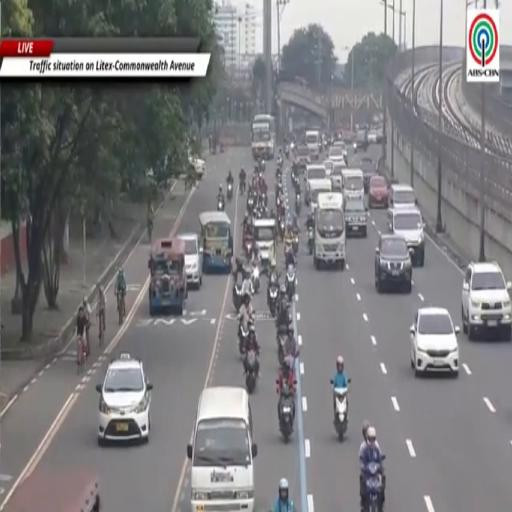bus: (314, 192, 345, 269), (251, 115, 275, 159)
car: (96, 354, 152, 444), (462, 262, 511, 340), (410, 308, 459, 376), (375, 234, 412, 293), (388, 208, 425, 266), (179, 233, 202, 289), (345, 198, 367, 237), (389, 184, 417, 209), (368, 175, 388, 209), (360, 157, 376, 193), (331, 163, 346, 191), (189, 156, 205, 180), (333, 140, 347, 163), (296, 146, 311, 167), (355, 129, 368, 150), (329, 147, 345, 162), (323, 159, 333, 177), (368, 131, 377, 143)
jeepney: (3, 469, 101, 511), (149, 237, 187, 315), (200, 212, 233, 273), (254, 219, 276, 266)
motorcycle: (362, 455, 385, 511), (279, 389, 294, 442), (333, 388, 348, 440), (246, 350, 257, 393), (277, 329, 287, 366), (286, 265, 296, 301), (238, 319, 248, 355), (268, 284, 278, 316), (233, 283, 242, 313), (251, 266, 260, 293), (244, 236, 253, 258), (308, 226, 314, 255), (292, 233, 299, 255), (279, 218, 285, 242), (276, 183, 282, 205), (295, 194, 301, 215), (247, 197, 254, 214), (276, 191, 282, 210), (227, 183, 232, 200), (292, 173, 298, 187), (261, 192, 267, 206), (218, 199, 224, 211), (240, 181, 245, 195), (277, 156, 282, 168), (219, 143, 224, 153), (285, 146, 289, 158), (353, 143, 357, 153)
